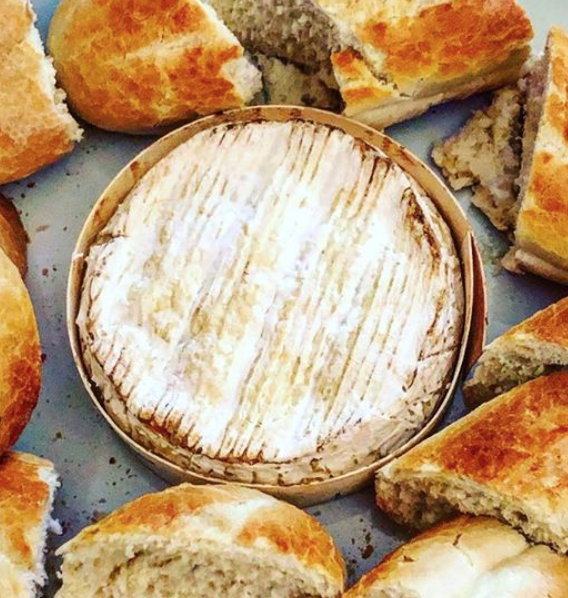camembert: (73, 120, 467, 486)
